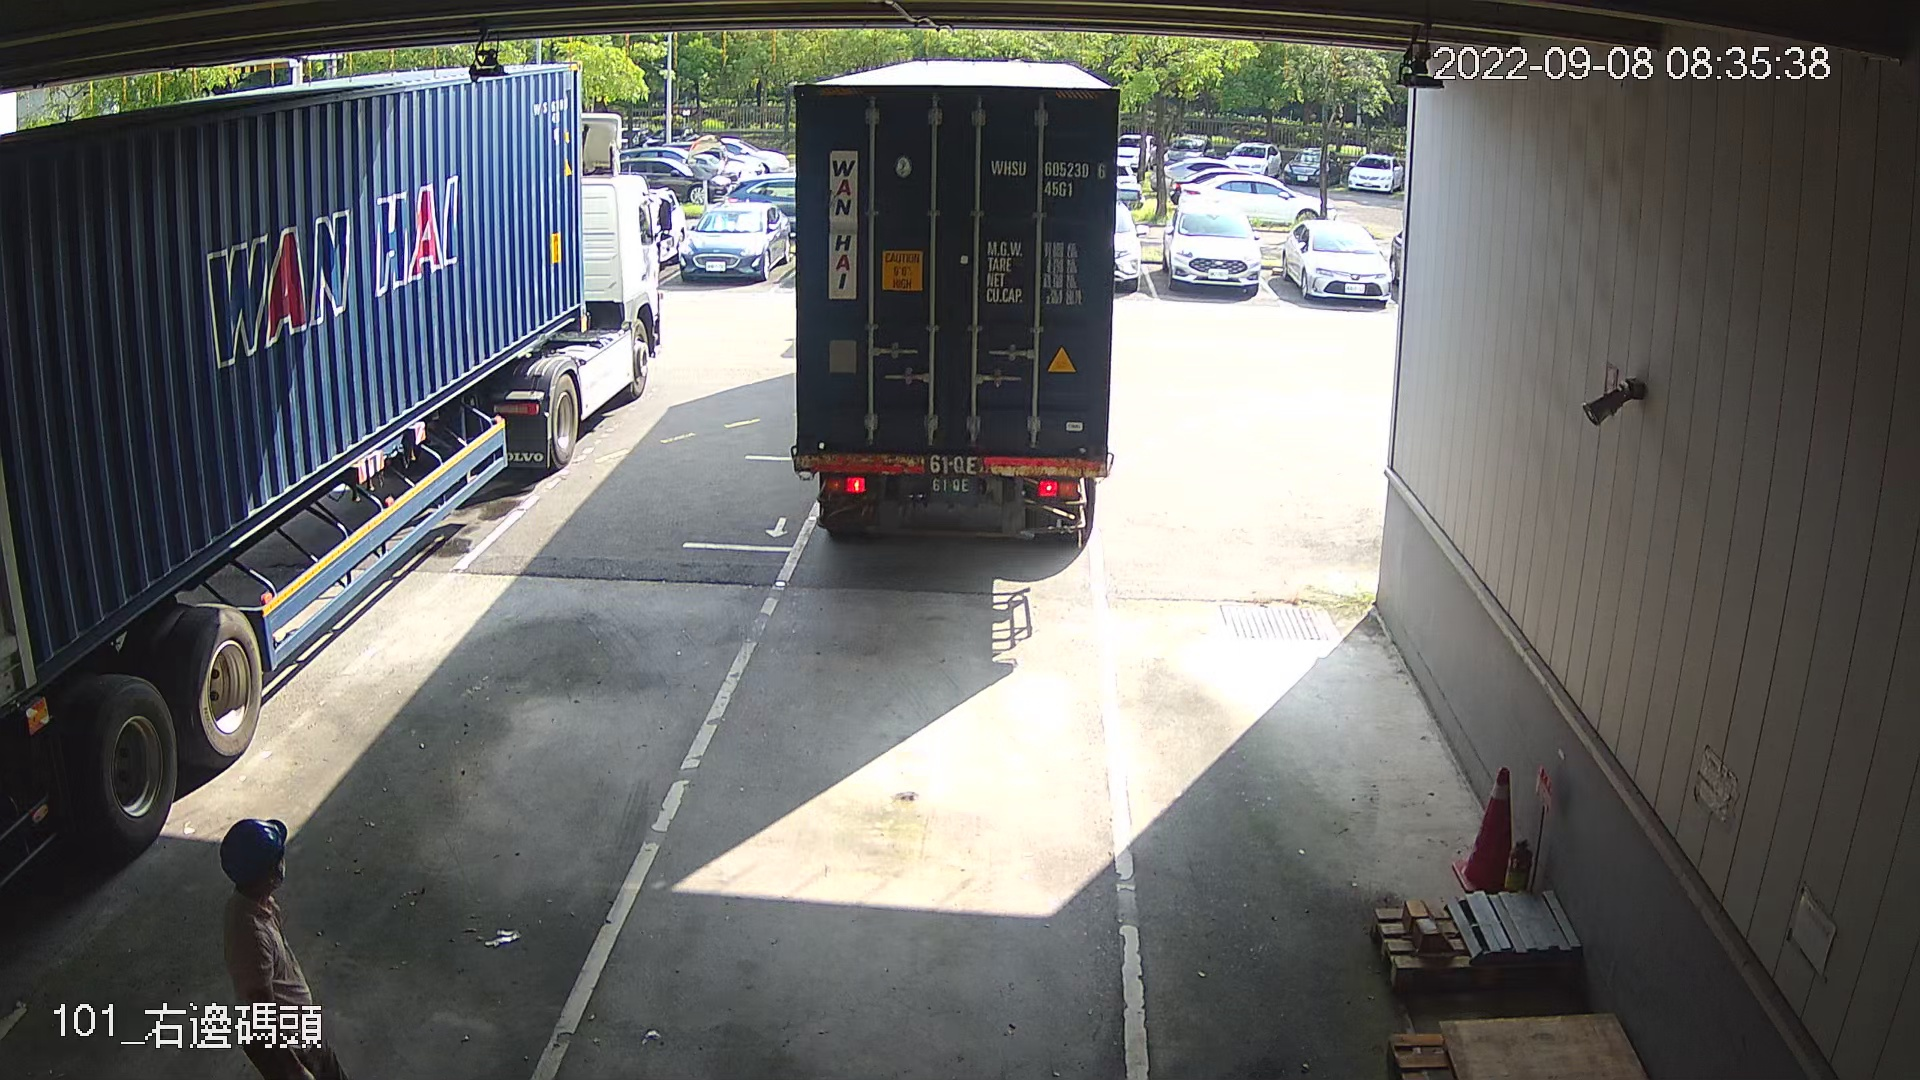container: (985, 146, 1109, 200)
